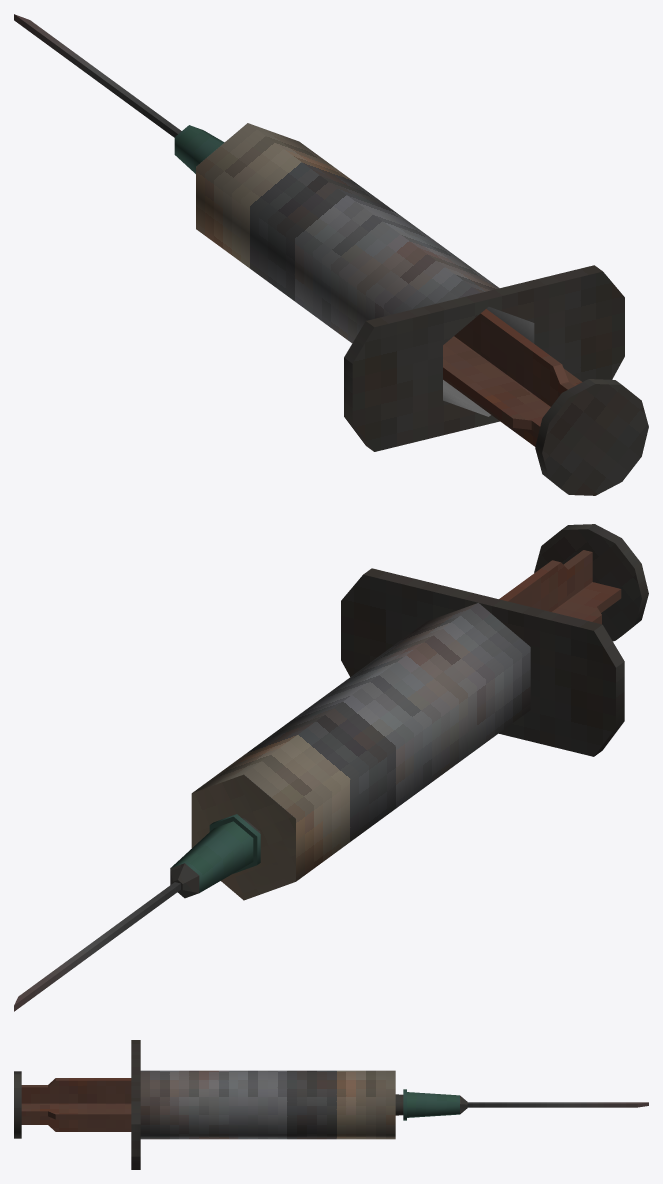
Rendered from syringe_mp_1.glb.
3 views of the same model, one above another, from view 1: azimuth 30°, elevation 25°; view 2: azimuth 150°, elevation 25°; view 3: azimuth 270°, elevation 25° (orthographic). The views are drawn at different scales.
Visible parts, largest first — view 1: syringe_mp_1; view 2: syringe_mp_1; view 3: syringe_mp_1.
Boxes of the visible parts, left/top/right/bottom form: syringe_mp_1: left=14, top=14, right=648, bottom=495; syringe_mp_1: left=14, top=524, right=648, bottom=1011; syringe_mp_1: left=14, top=1040, right=648, bottom=1169.
Size of the model in its own units: 0.0548 by 0.024 by 0.2016.
1 material, 1 textured.
